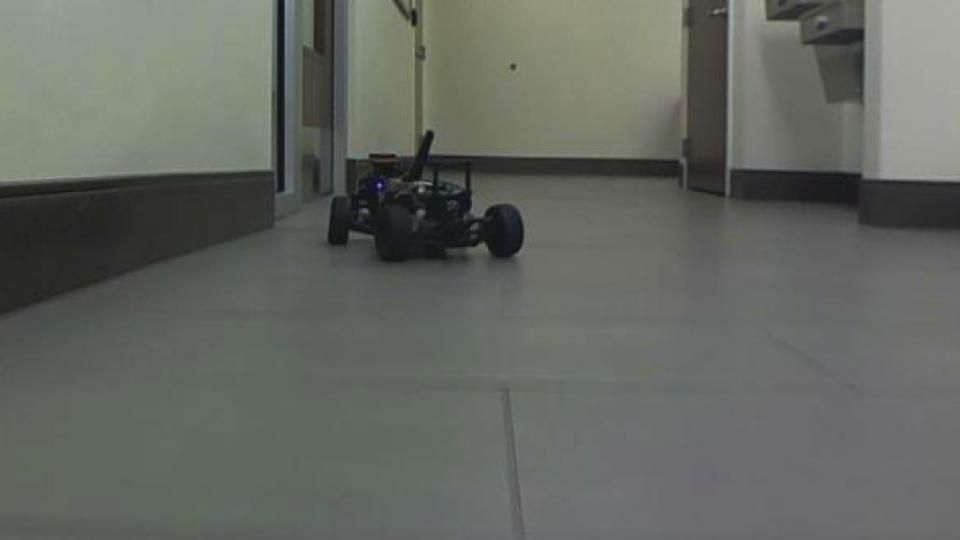car: (324, 127, 529, 265)
